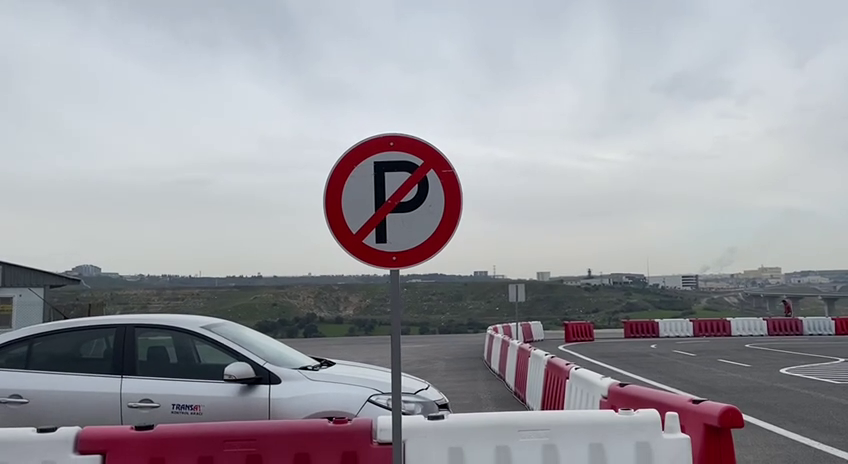noparking: (316, 125, 469, 274)
